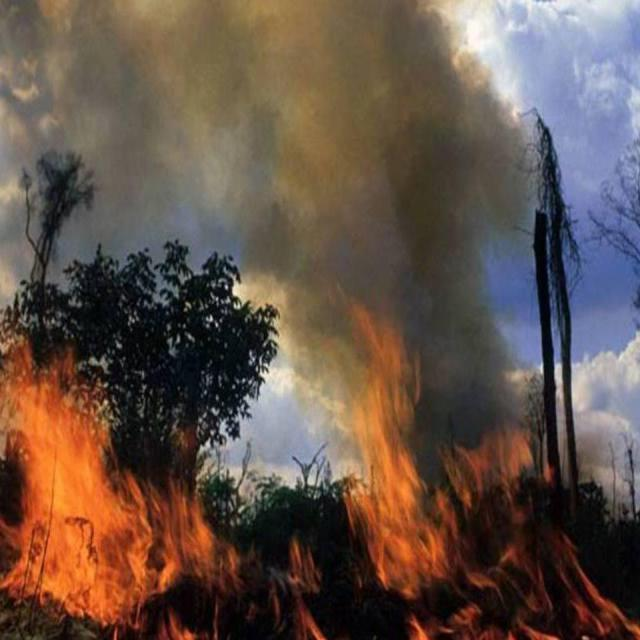Fire: (348, 321, 618, 639), (7, 304, 230, 638), (280, 531, 328, 634)
